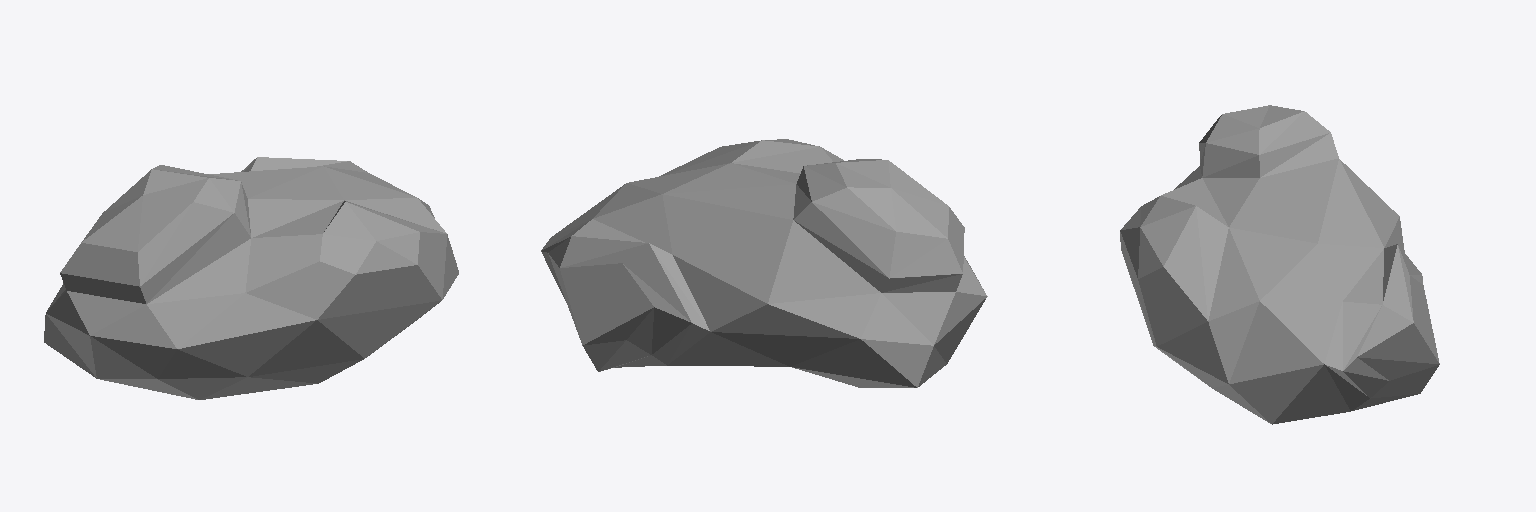
The model's file is Rubble02.obj.
The picture shows the model from 3 angles: view 1: azimuth 30°, elevation 25°; view 2: azimuth 150°, elevation 25°; view 3: azimuth 270°, elevation 25°; orthographic projection.
Visible parts, largest first — view 1: Rubble02; view 2: Rubble02; view 3: Rubble02.
Part boxes in pixels (x1,y1,x2,y2): Rubble02: (44, 157, 458, 399); Rubble02: (541, 139, 987, 387); Rubble02: (1120, 105, 1439, 424).
Size of the model in its own units: 1.62 by 0.793 by 1.15.